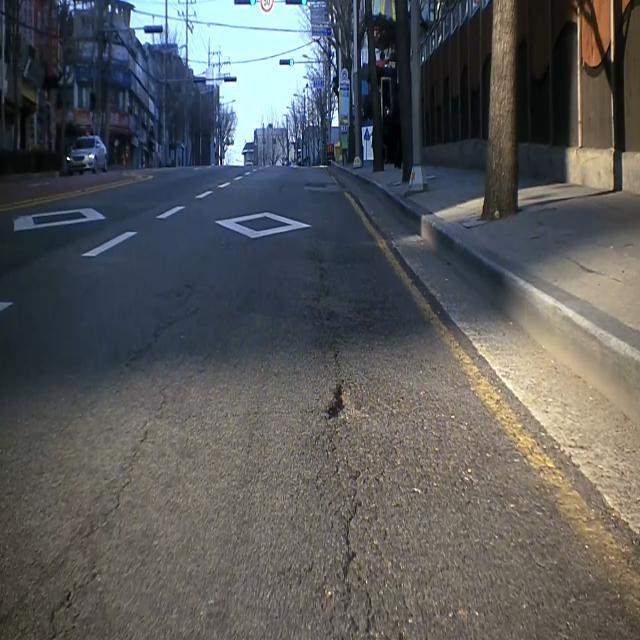Buraco: (316, 382, 358, 424)
